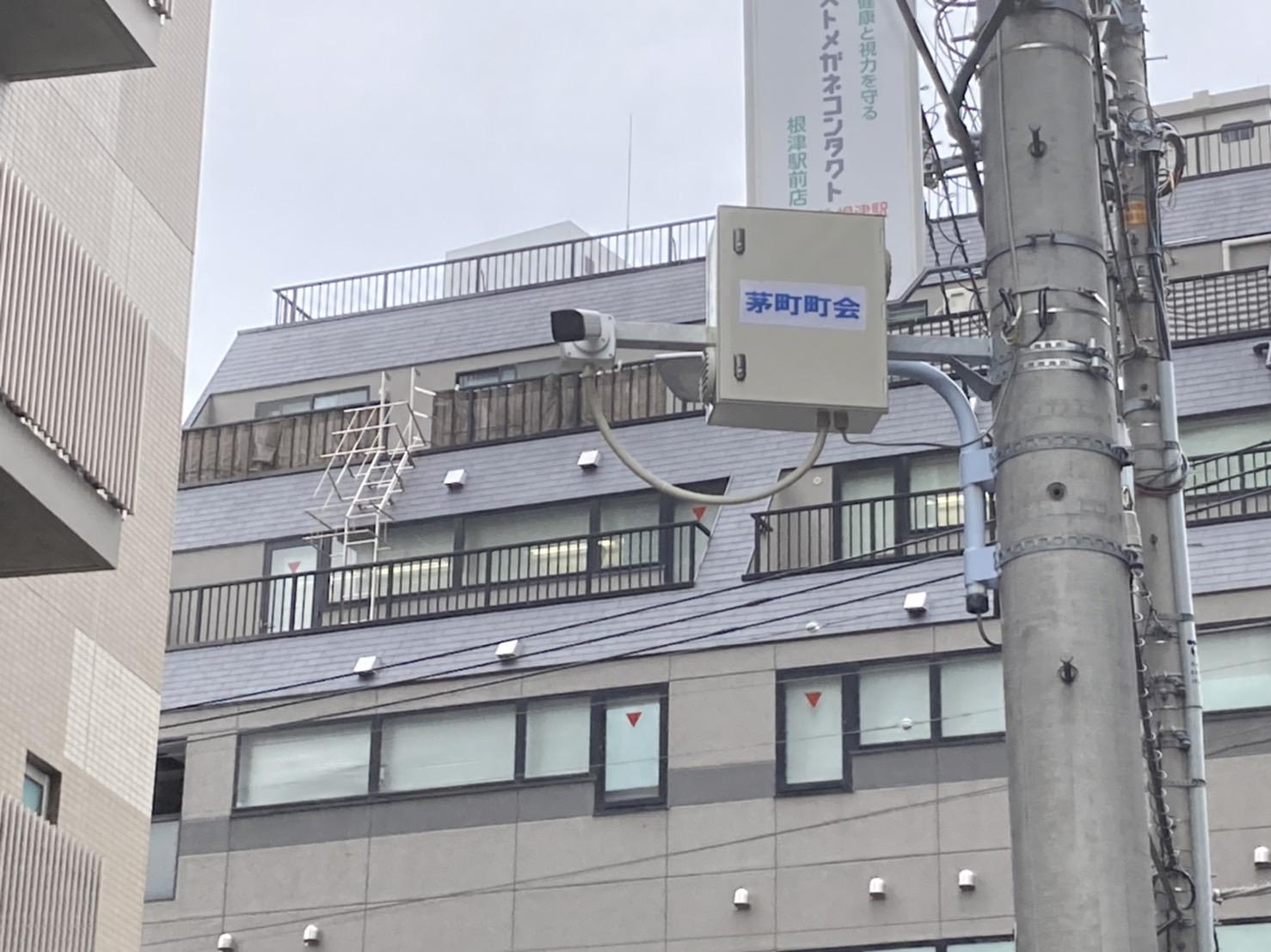tutu: (550, 290, 612, 359)
